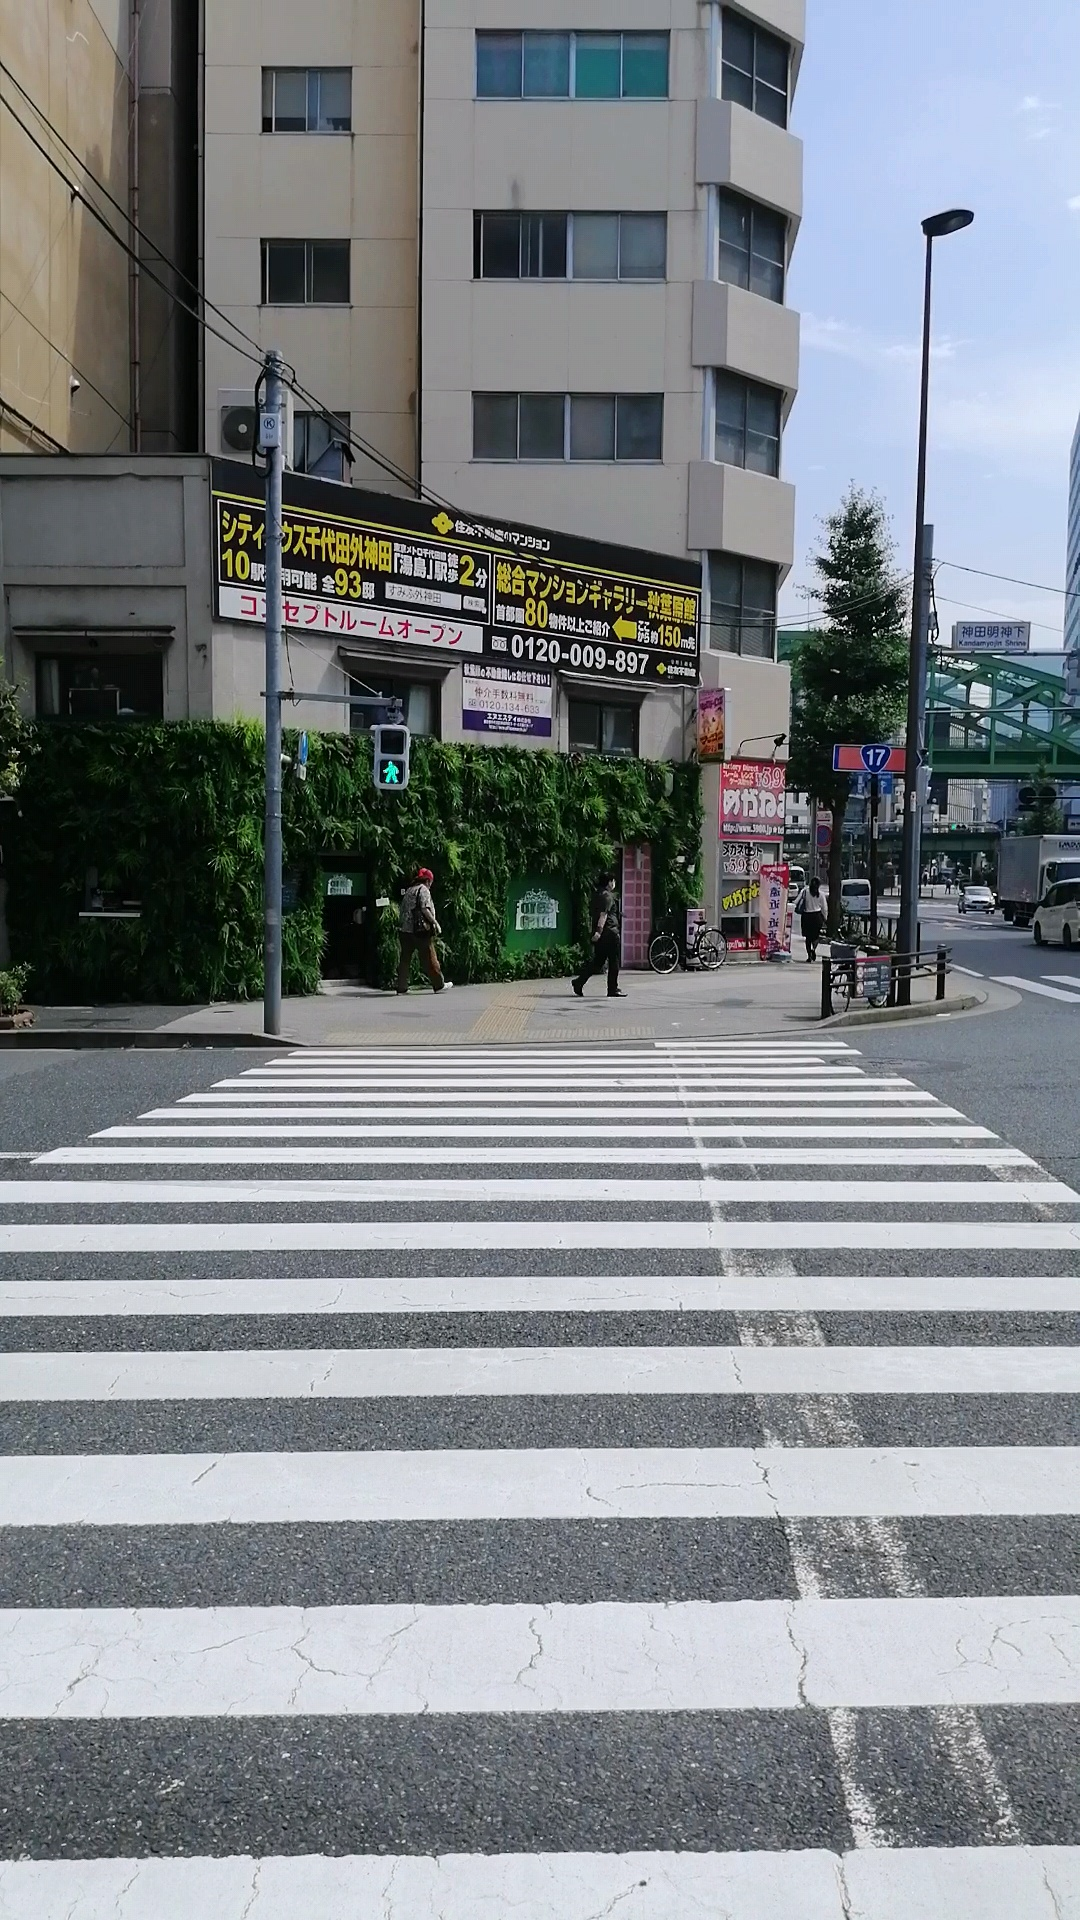green: (373, 724, 409, 790)
